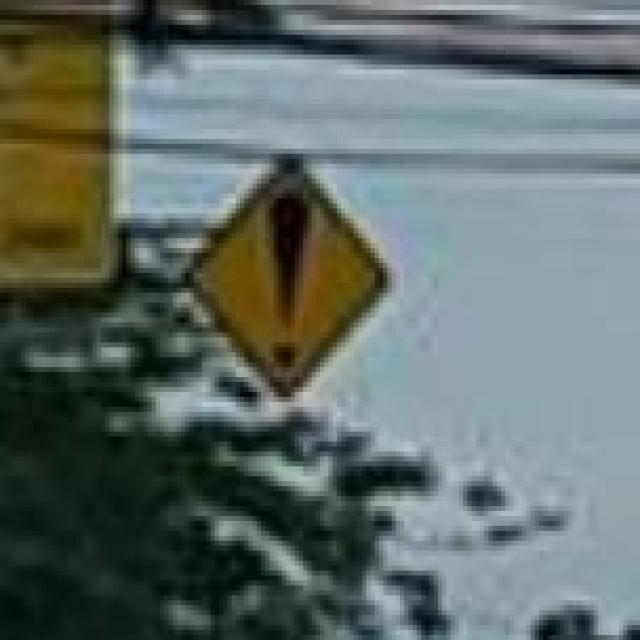traffic sign: (190, 164, 388, 397)
